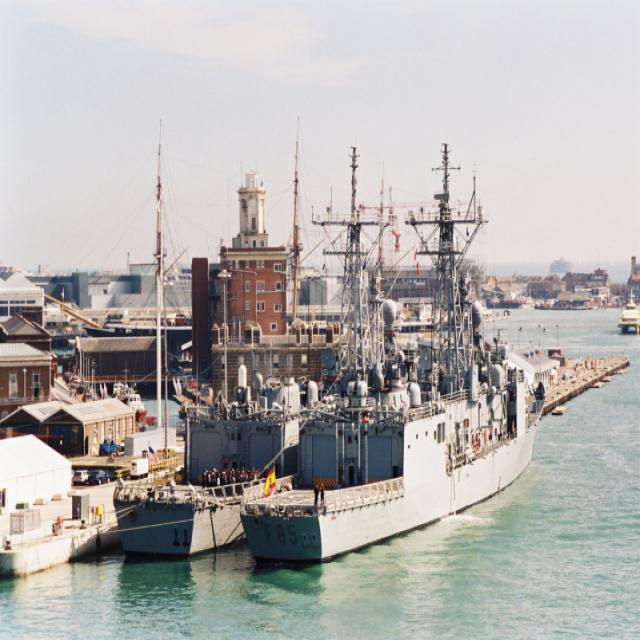Fragata: (235, 118, 550, 571), (88, 147, 415, 542)
